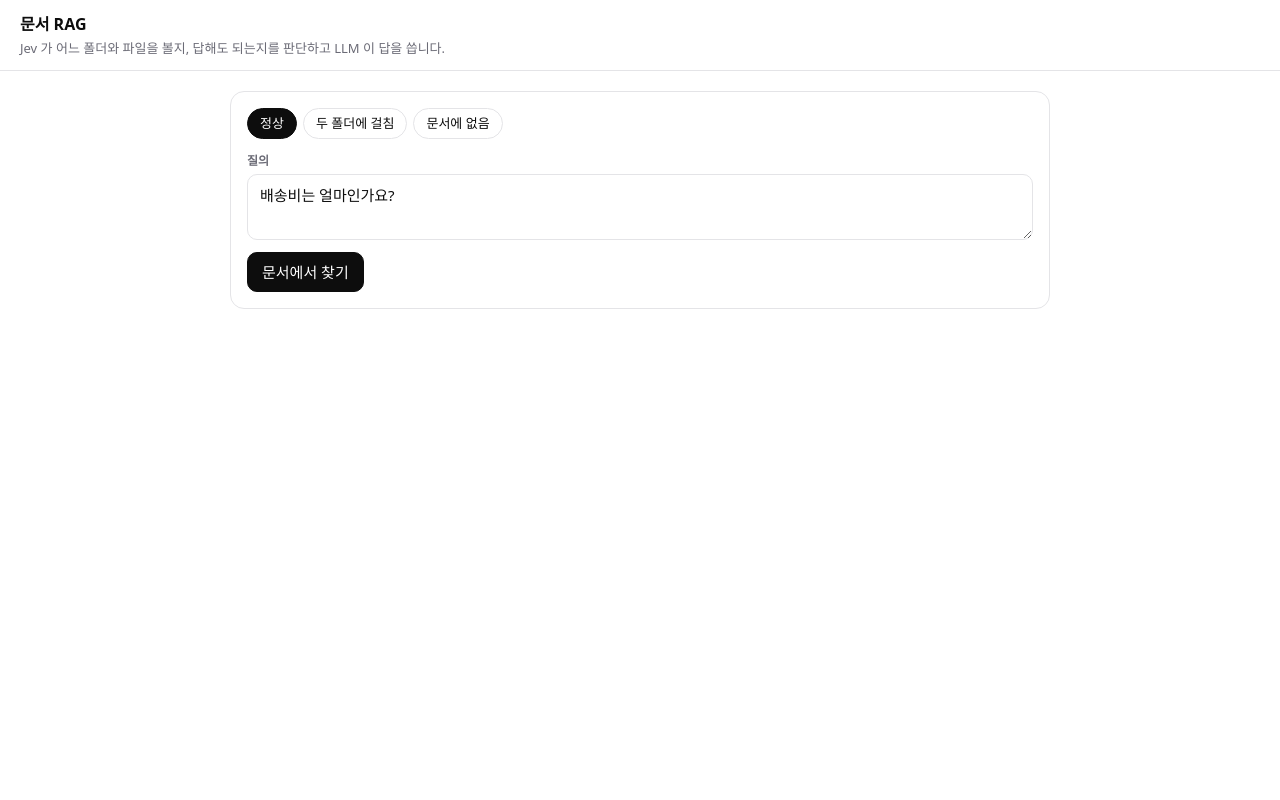
Scenario: RagTab › should show the stop reason for the no_folder status
Click the button "문서에서 찾기".
click(305, 272)  # box [247,252,364,292]
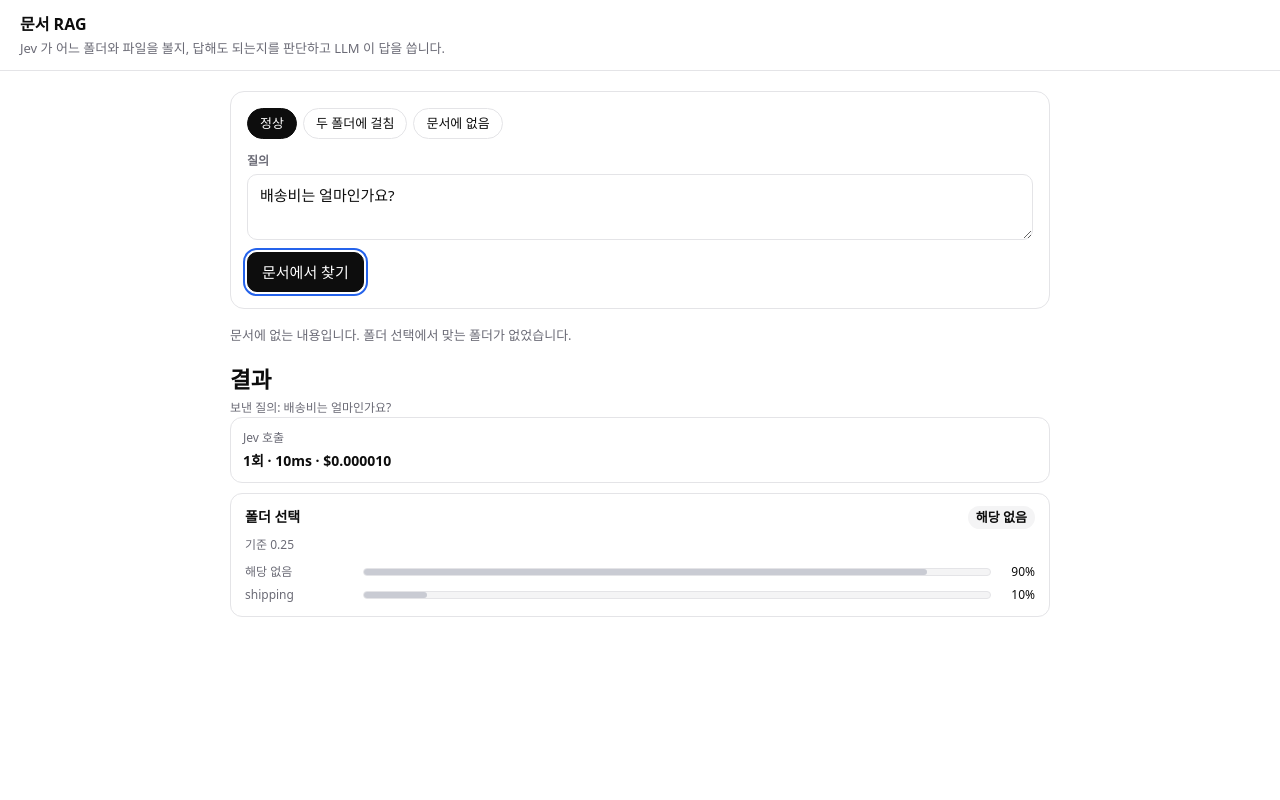
Result: the element named "RAG 결과" is shown at [230,362,1050,617]
Result: the message reads "문서에 없는 내용입니다. 폴더 선택에서 맞는 폴더가 없었습니다." at [230,326,572,344]
Result: the headings read "폴더 선택", in this order at [245,506,300,528]
